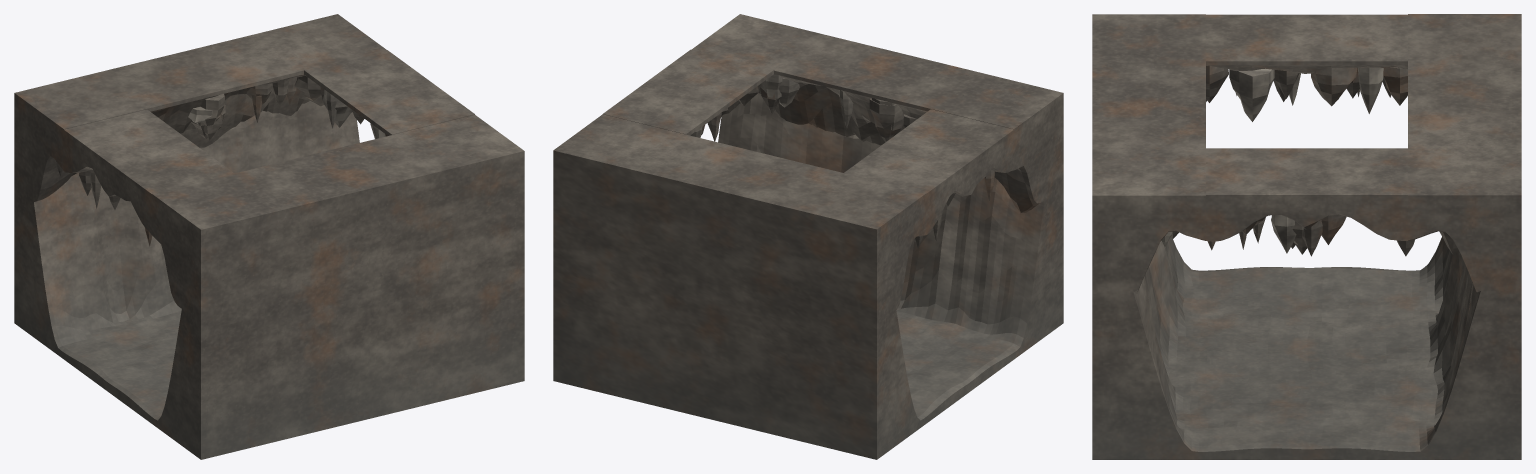
Rendered from dungeon_cave_passage.glb.
3 views of the same model, side by side, from view 1: azimuth 30°, elevation 25°; view 2: azimuth 150°, elevation 25°; view 3: azimuth 270°, elevation 25° (orthographic). The views are drawn at different scales.
Parts seen in each view (by area): view 1: dungeon_cave_passage; view 2: dungeon_cave_passage; view 3: dungeon_cave_passage.
Boxes of the visible parts, x1,y1,x2,y2 form: dungeon_cave_passage: [14, 14, 524, 459]; dungeon_cave_passage: [553, 14, 1063, 459]; dungeon_cave_passage: [1092, 14, 1521, 459].
Bounding box in the file's own units: 5.05 × 3.45 × 5.05.
Materials: 1 (1 with a texture image).
